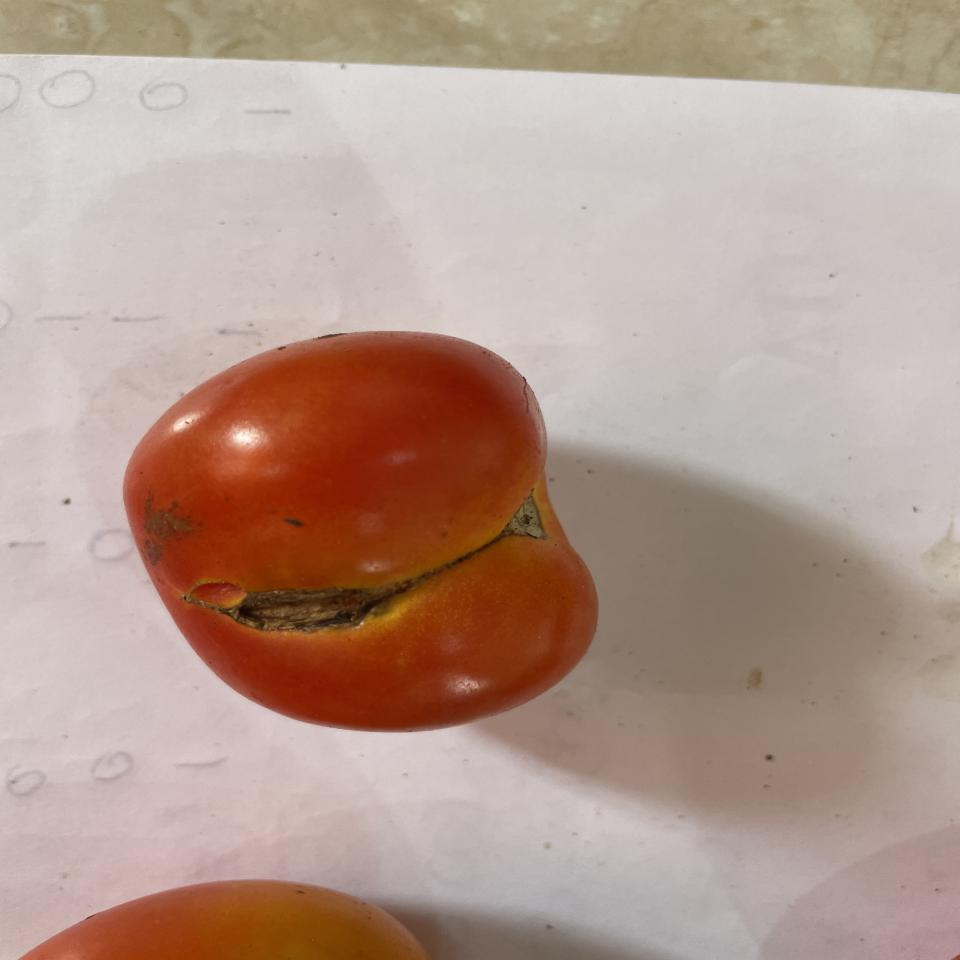Cracking: (192, 576, 398, 639)
